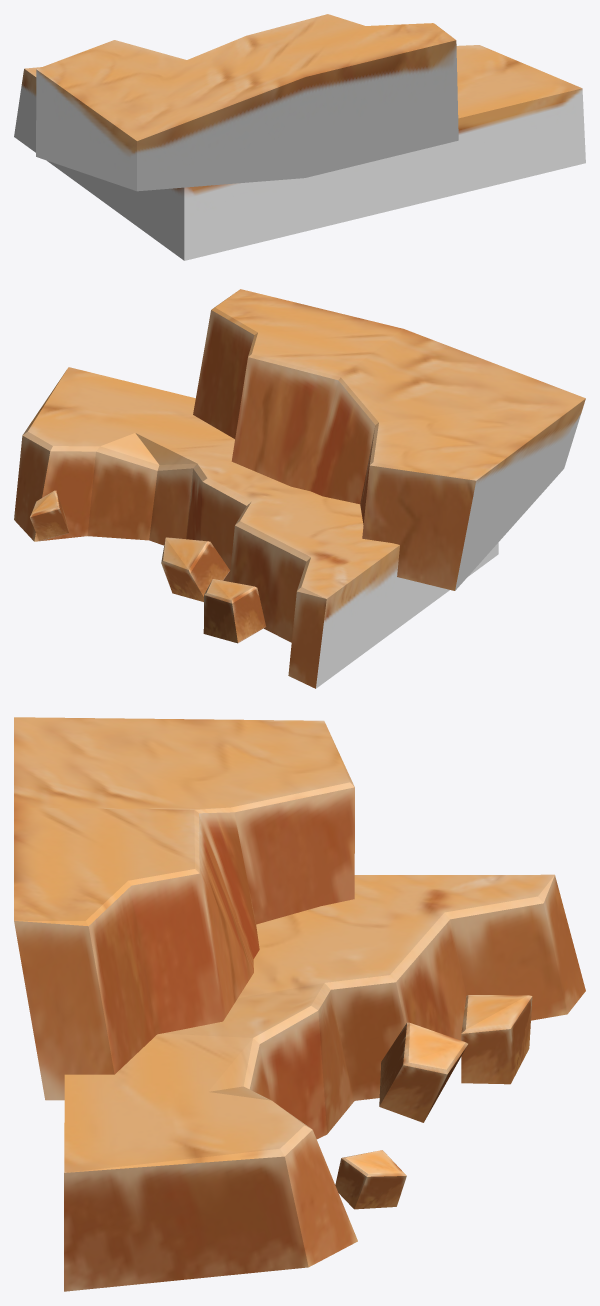
File: land3.fbx
3 views of the same model, one above another, from view 1: azimuth 30°, elevation 25°; view 2: azimuth 150°, elevation 25°; view 3: azimuth 270°, elevation 25° (orthographic). The views are drawn at different scales.
Visible parts, largest first — view 1: land3; view 2: land3; view 3: land3.
Boxes of the visible parts, box(x1,y1,x2,y2) form: land3: box(14, 14, 585, 260); land3: box(14, 289, 585, 688); land3: box(14, 717, 585, 1291).
Bounding box in the file's own units: 197 × 69.21 × 137.
